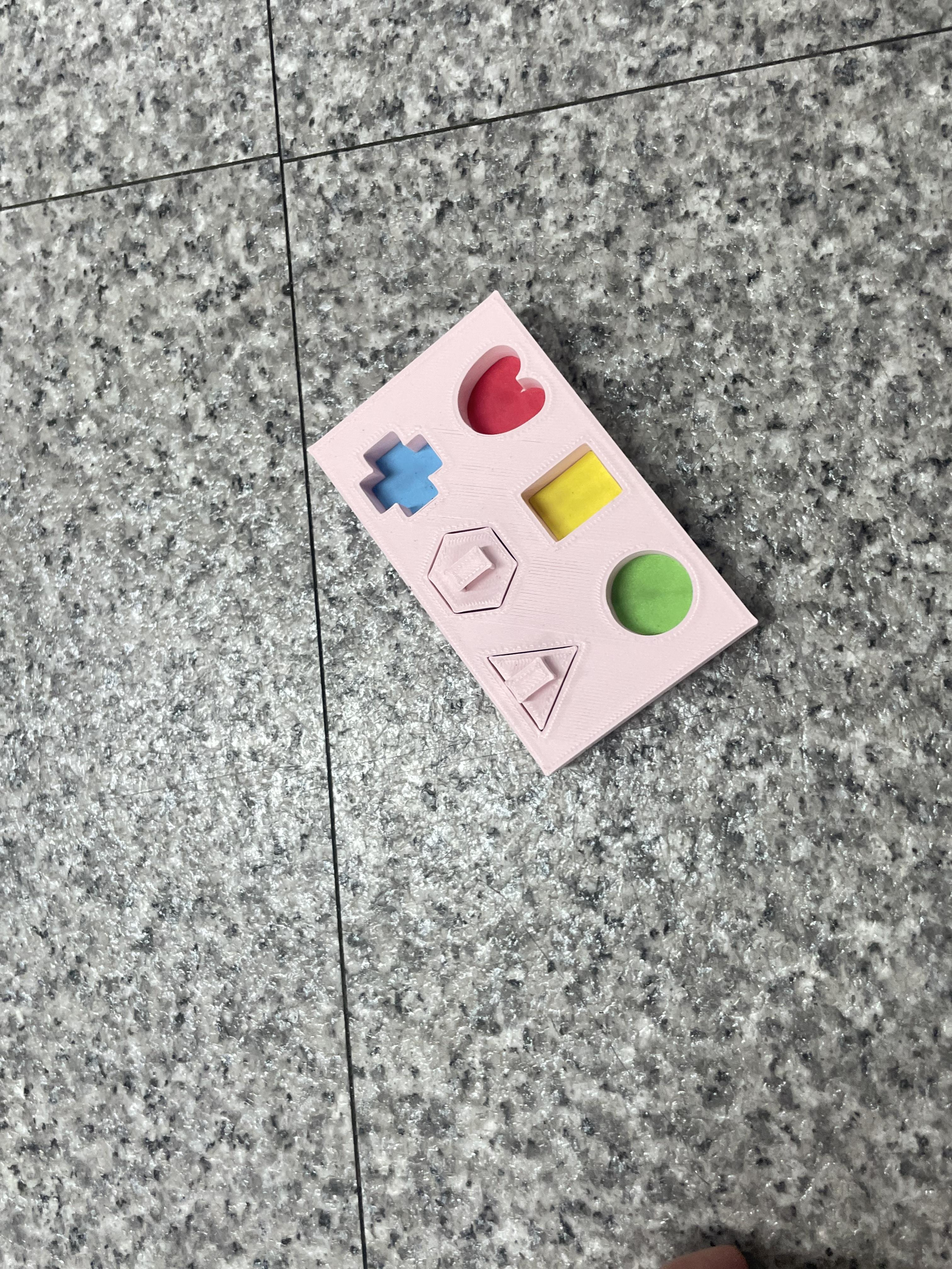unsolved: (283, 252, 803, 797)
